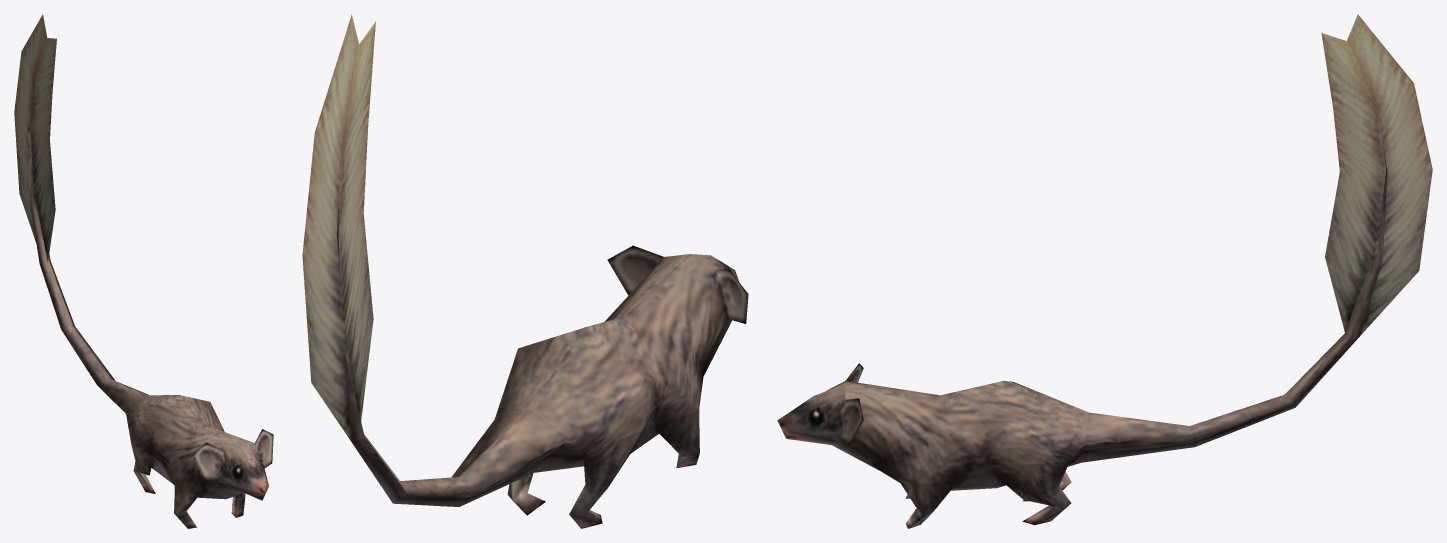
Rendered from En_Tupaia.FBX.
3 views of the same model, side by side, from view 1: azimuth 30°, elevation 25°; view 2: azimuth 150°, elevation 25°; view 3: azimuth 270°, elevation 25° (orthographic). The views are drawn at different scales.
Parts seen in each view (by area): view 1: En_Tupaia; view 2: En_Tupaia; view 3: En_Tupaia.
Boxes of the visible parts, left/top/right/bottom form: En_Tupaia: left=14, top=14, right=273, bottom=528; En_Tupaia: left=302, top=14, right=748, bottom=528; En_Tupaia: left=777, top=14, right=1432, bottom=528.
Bounding box in the file's own units: 14.69 × 65.24 × 77.93.
